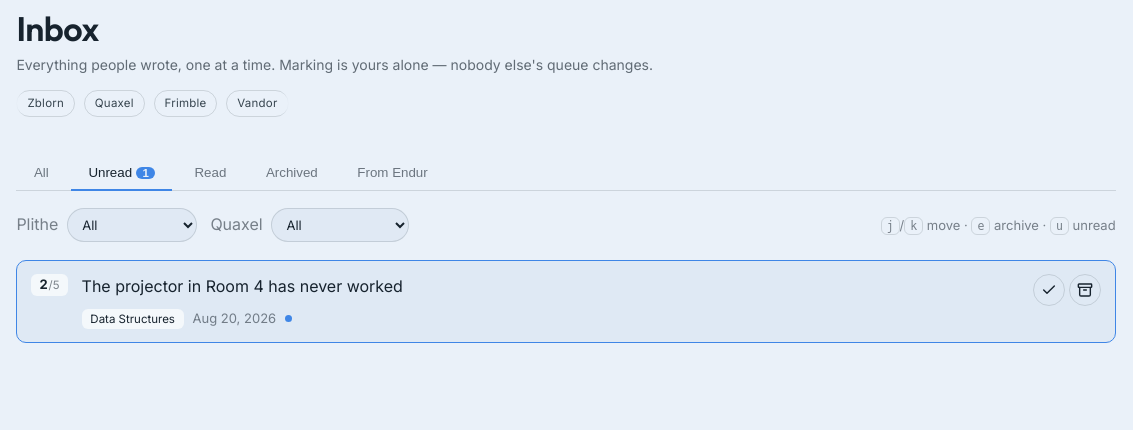
Test: the queue › expands to the question and the campaign, and marks read by doing so
Expected: the text "Anything else you would like" is not shown
Click the button "The projector in Room 4 has never worked": [242, 286] box [82, 274, 1020, 300]
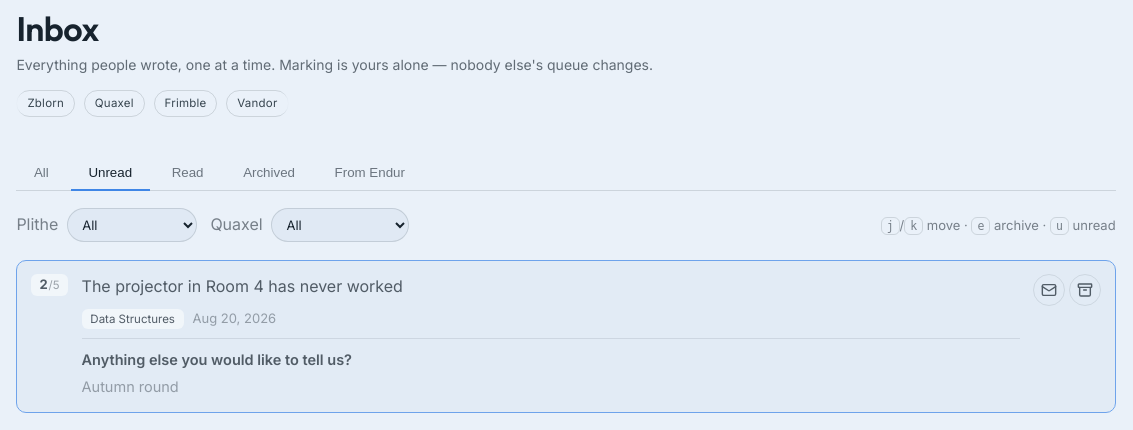
Expected: the text "Anything else you would like to tell us?" is shown, [82, 351, 352, 368]
Expected: the element with class "response-card-detail" shows "Autumn round", [82, 378, 179, 395]
